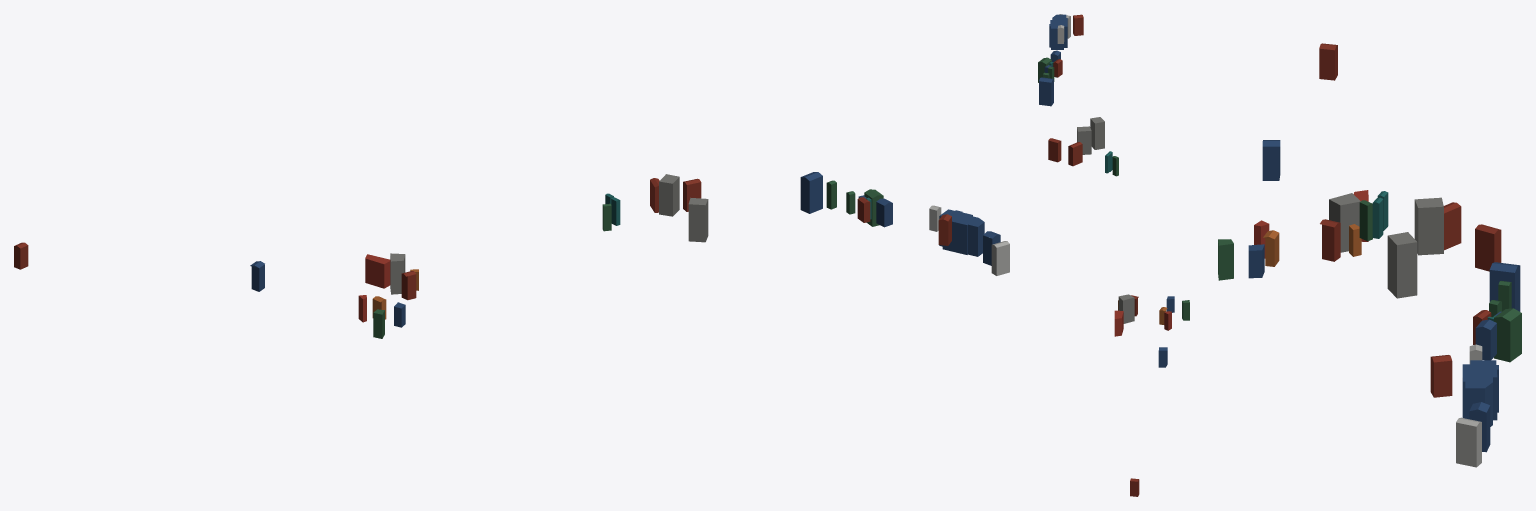
Rendered from near-15-27357-14876.44a561bd.glb.
3 renders of one model, left to right at view 1: azimuth 30°, elevation 25°; view 2: azimuth 150°, elevation 25°; view 3: azimuth 330°, elevation 25°, orthographic. The views are drawn at different scales.
Bounding box in the file's own units: 389 × 160 × 545.
